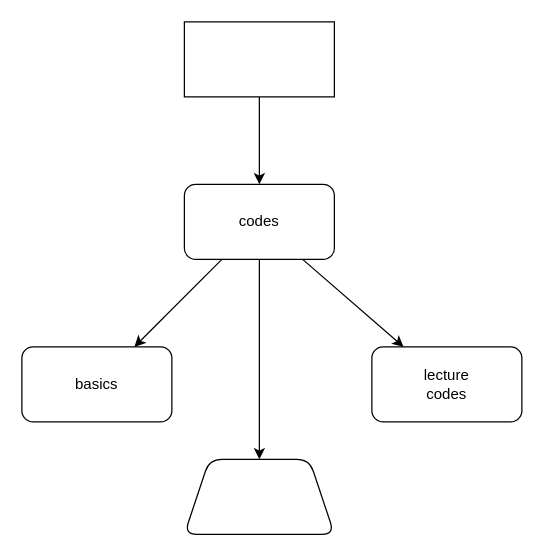
This 544x556 diagram has some shape labels left out. The shapes that lost their labels are listed below. From the top down, each one's centre as x and y in pixels, then its label:
At [258,59]: "JAVA".
At [258,496]: "lab codes".
